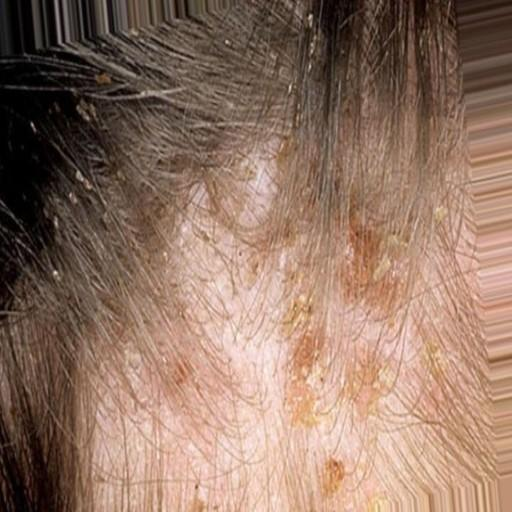Head_Lice: (69, 99, 105, 128), (69, 173, 103, 194), (86, 72, 123, 87), (25, 115, 47, 137), (96, 210, 115, 234), (49, 209, 66, 235), (49, 266, 69, 285)
